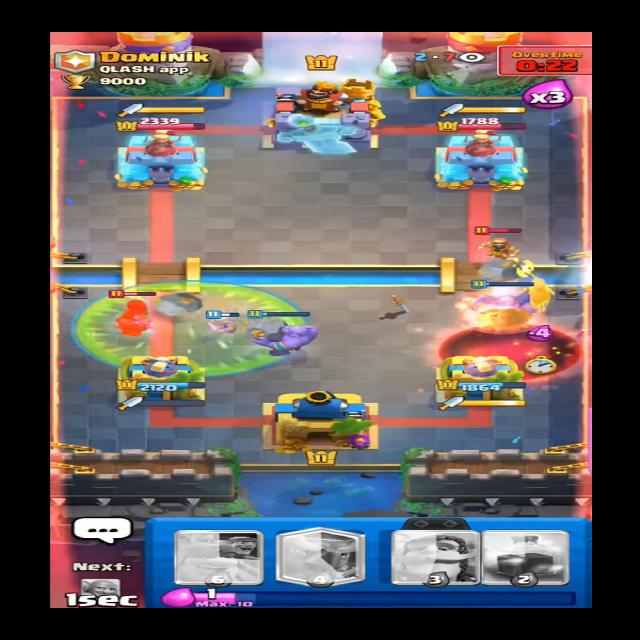ram-rider: (107, 287, 162, 341)
void: (438, 320, 582, 383)
wizard: (469, 224, 527, 264)
